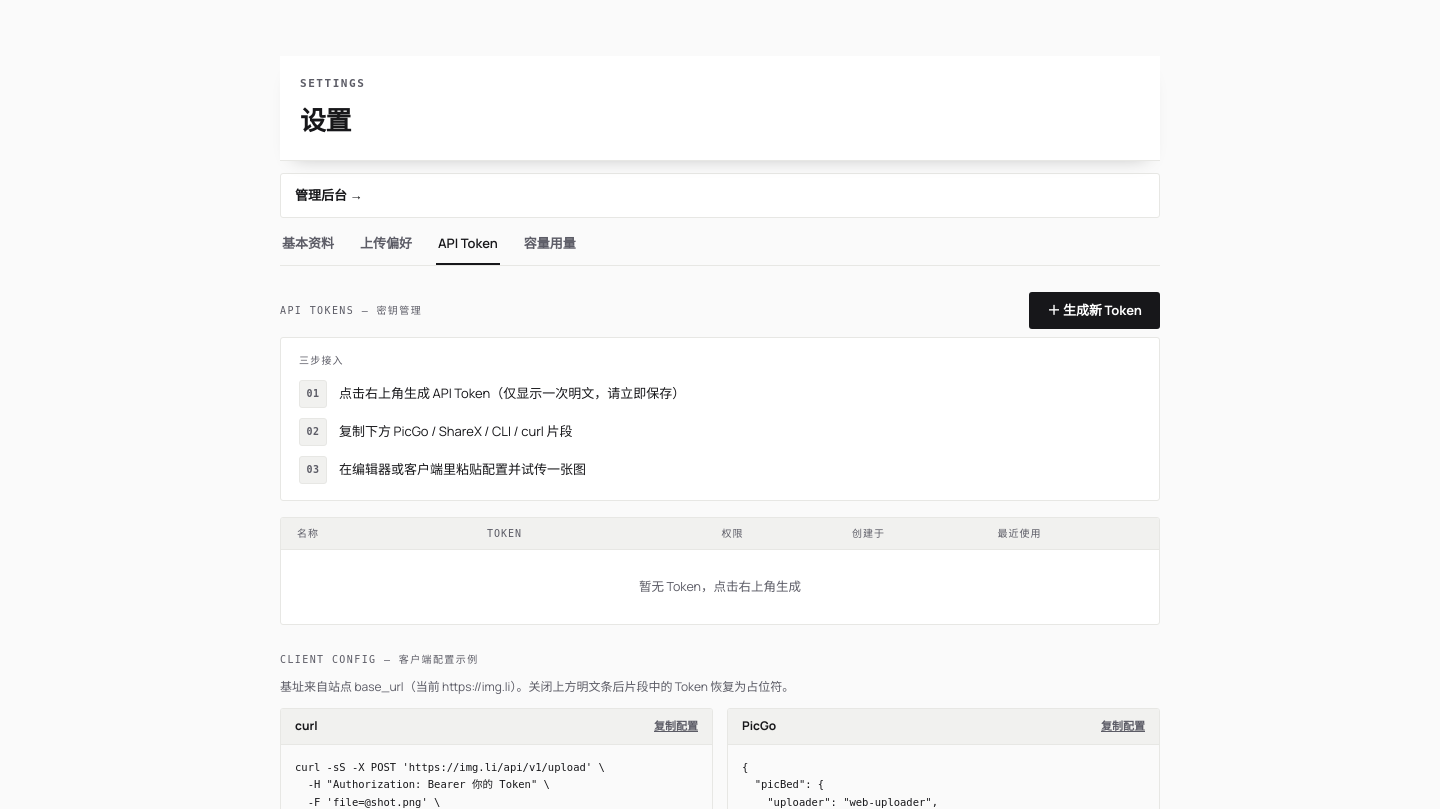
Test: Token：新建弹窗→一次性明文条→列表刷新，吊销两击
Expected: the text "暂无 Token，点击右上角生成" is shown, [639,578,801,595]
Click the button "＋ 生成新 Token" at (1095, 310), box [1029,292,1160,329]
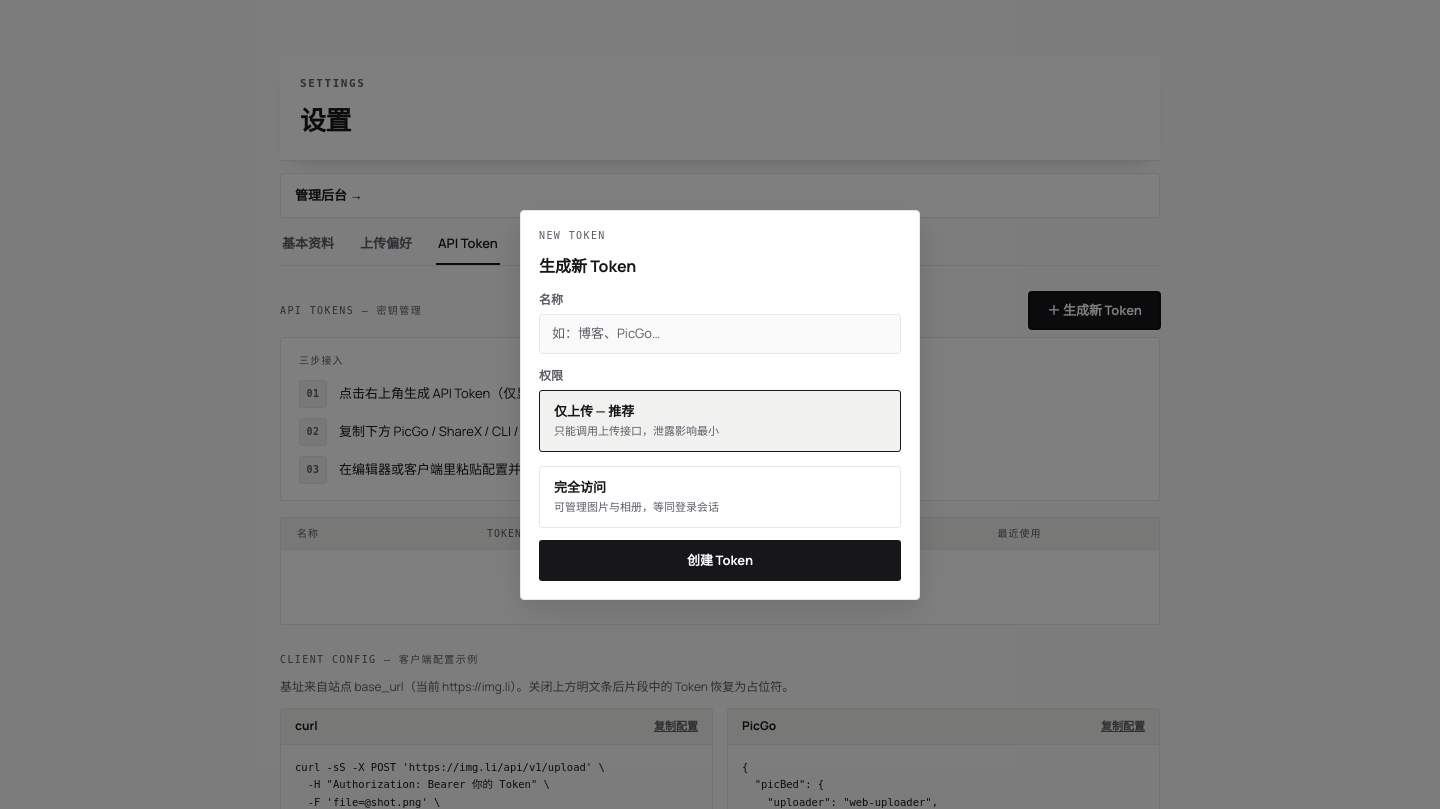
Type "blog" into the field with placeholder "如：博客、PicGo…" at (720, 334), box [539,314,901,354]
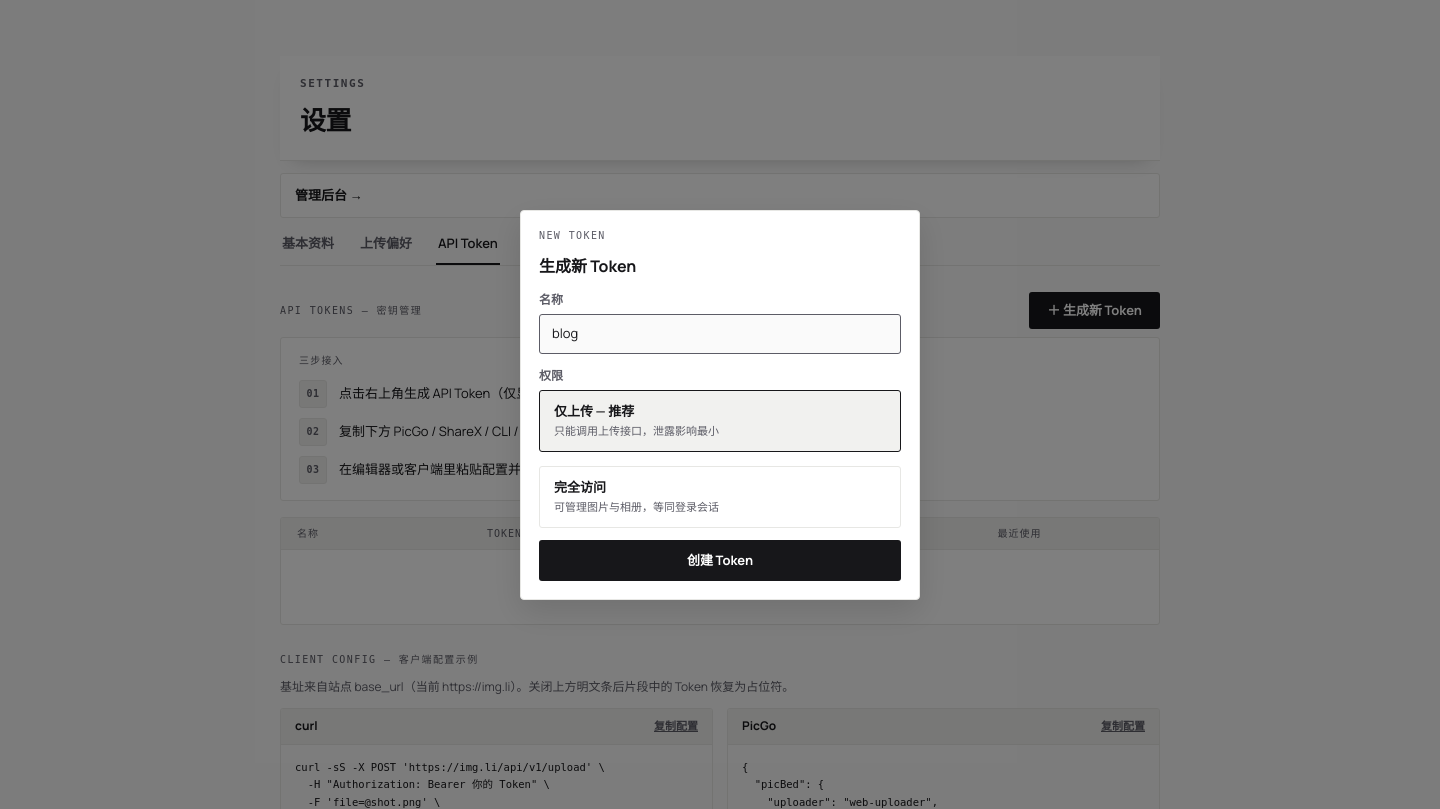
Click the button "仅上传 — 推荐 只能调用上传接口，泄露影响最小" at (720, 421), box [539,390,901,452]
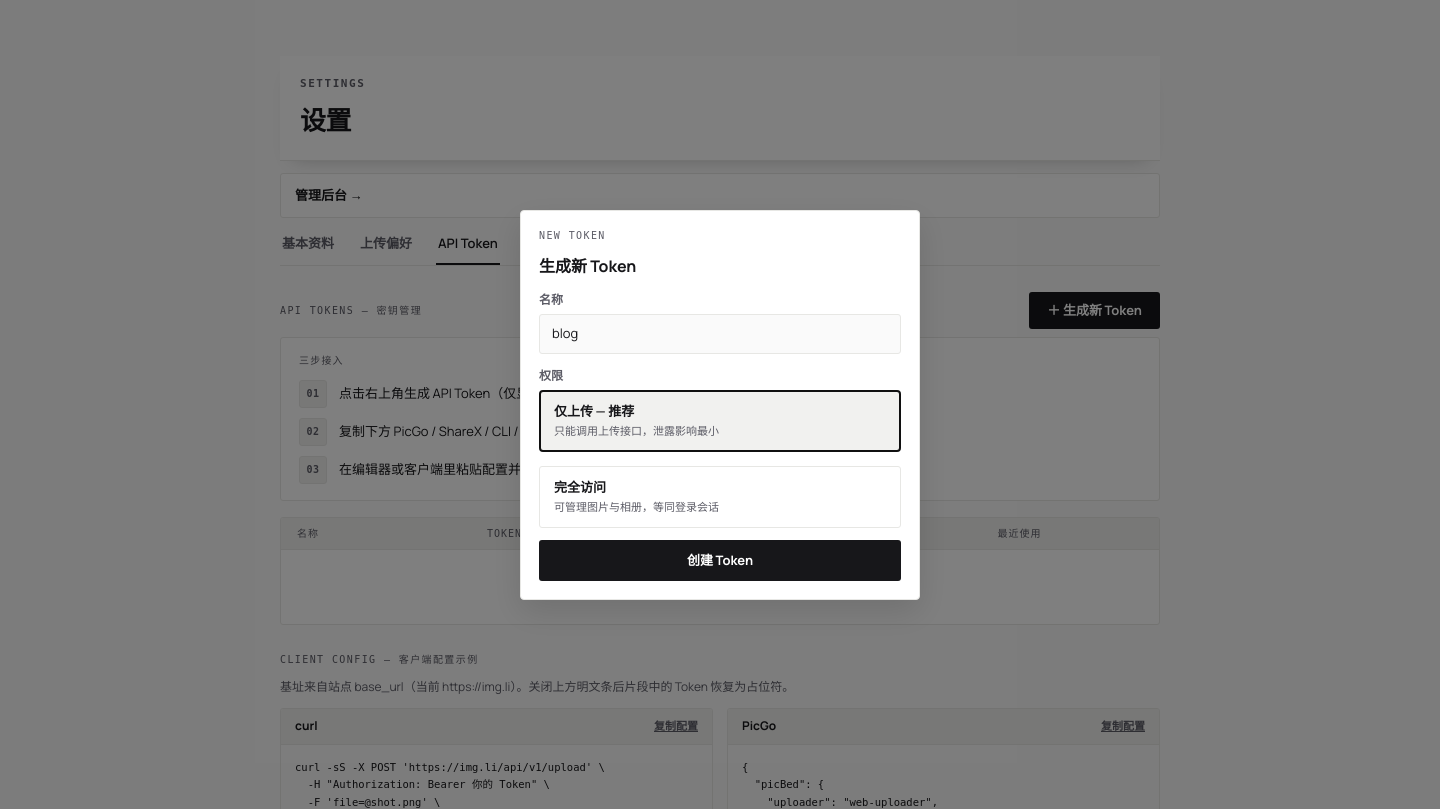
Click the button "创建 Token" at (720, 561), box [539,540,901,581]
(page scrolled)
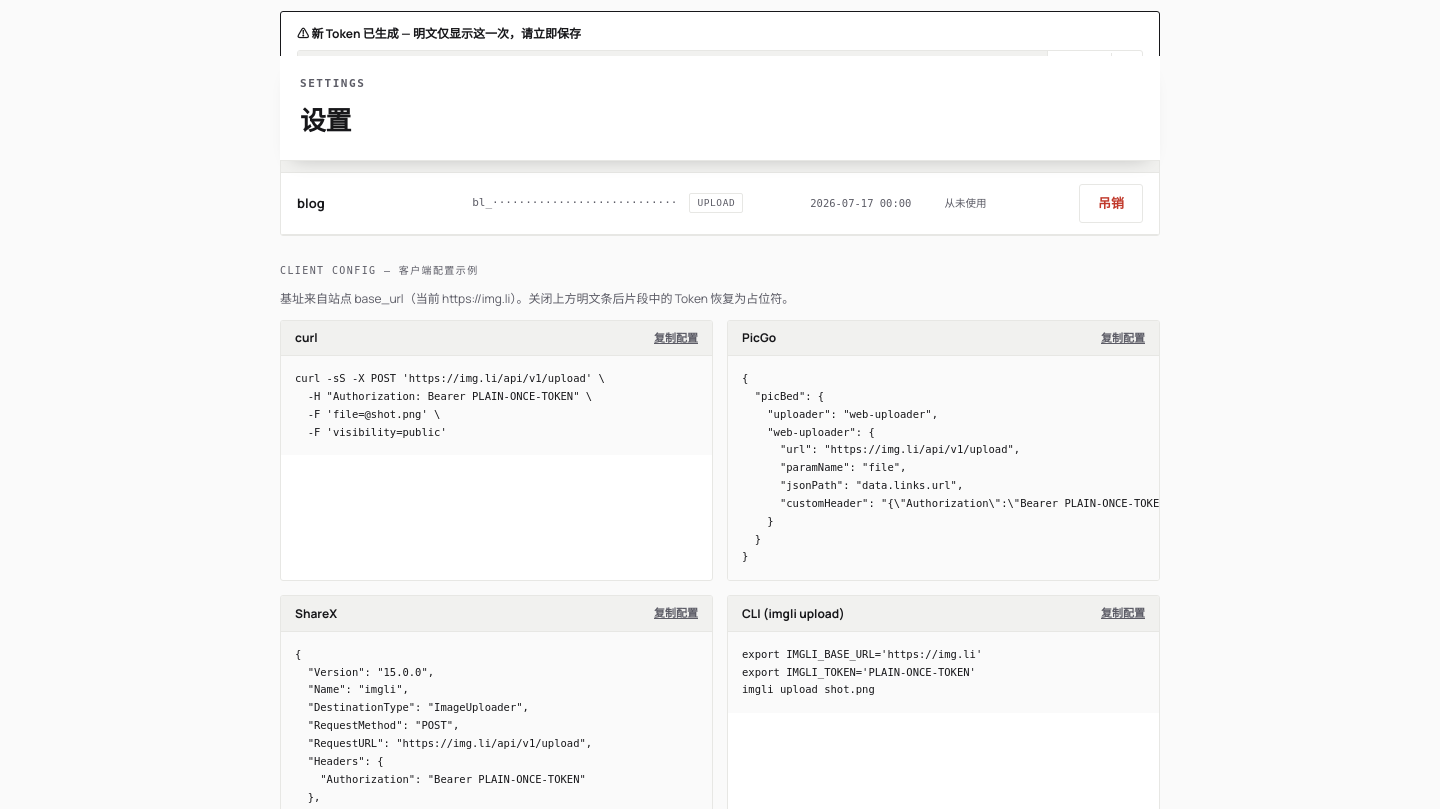
Expected: the text "PLAIN-ONCE-TOKEN" is shown, [298,50,1047,84]
Expected: the text "blog" is shown, [297,194,325,212]
Expected: the text "UPLOAD" is shown, [690,193,743,213]
